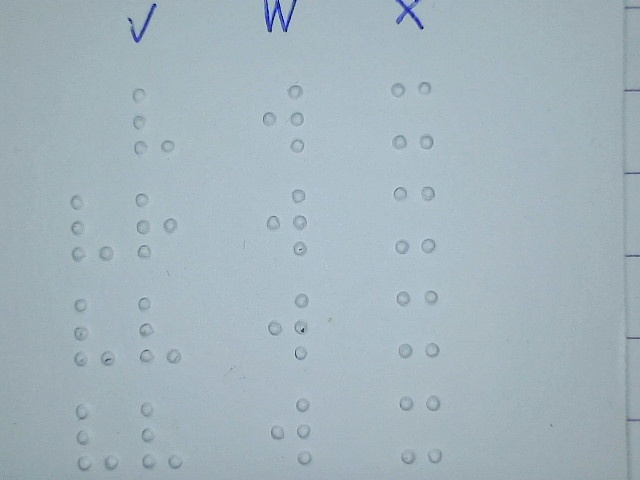V: (130, 86, 178, 156), (69, 192, 117, 262), (71, 297, 119, 367), (136, 295, 184, 365), (137, 399, 185, 469), (73, 401, 121, 471)
W: (260, 83, 308, 153), (263, 186, 311, 256), (265, 291, 313, 361), (267, 396, 315, 466)
X: (387, 80, 435, 150), (391, 184, 439, 254), (393, 288, 441, 358), (396, 394, 444, 464)
